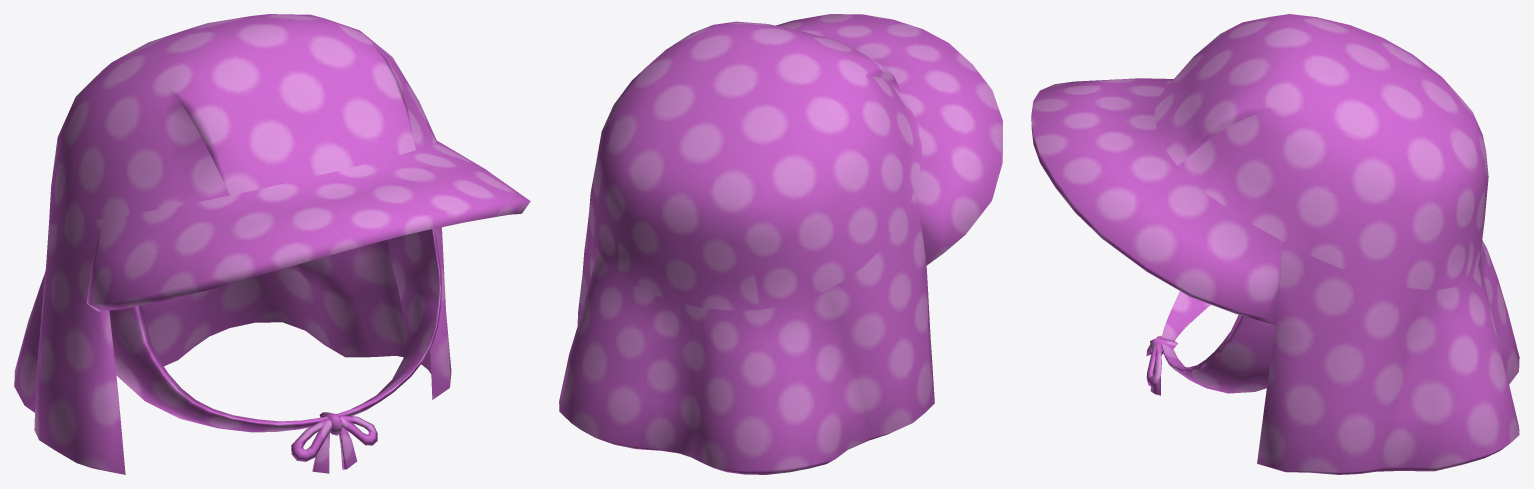
The model's file is CapCostumeFarm0.glb.
3 renders of one model, left to right at view 1: azimuth 30°, elevation 25°; view 2: azimuth 150°, elevation 25°; view 3: azimuth 270°, elevation 25°, orthographic. The views are drawn at different scales.
Parts seen in each view (by area): view 1: Body__mCap; view 2: Body__mCap; view 3: Body__mCap.
Part boxes in pixels (x1,y1,x2,y2): Body__mCap: (14,14,530,474); Body__mCap: (559,14,1002,474); Body__mCap: (1031,14,1519,474).
Size of the model in its own units: 8.69 by 8.47 by 9.93.
Materials: 1 (1 with a texture image).
